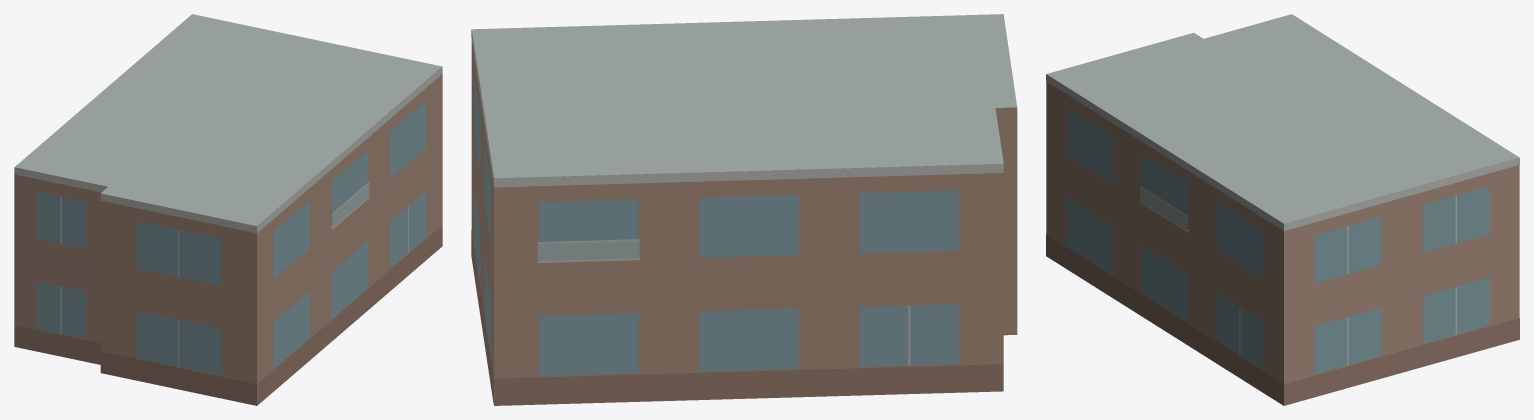
Rendered from survey-upis-32908438.glb.
3 renders of one model, left to right at view 1: azimuth 30°, elevation 25°; view 2: azimuth 150°, elevation 25°; view 3: azimuth 270°, elevation 25°, orthographic. The views are drawn at different scales.
Parts seen in each view (by area): view 1: survey-upis-32908438.tmp; view 2: survey-upis-32908438.tmp; view 3: survey-upis-32908438.tmp.
Boxes of the visible parts, x1=… form: survey-upis-32908438.tmp: x1=14, y1=14, x2=442, y2=405; survey-upis-32908438.tmp: x1=471, y1=14, x2=1017, y2=405; survey-upis-32908438.tmp: x1=1046, y1=14, x2=1519, y2=405.
Size of the model in its own units: 15.08 by 6.1 by 14.39.
